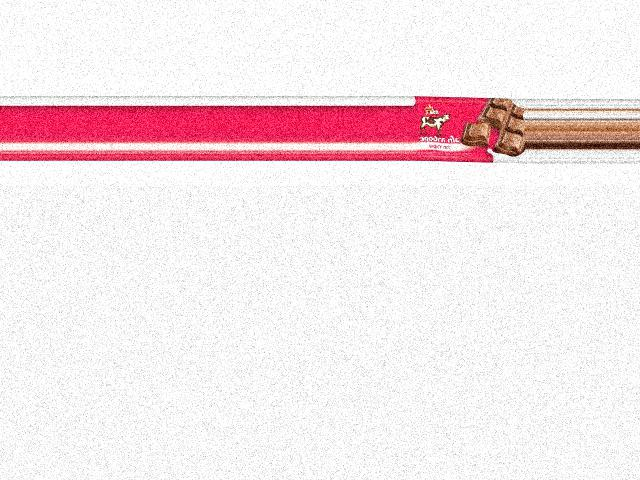chocolate: (412, 97, 523, 162)
